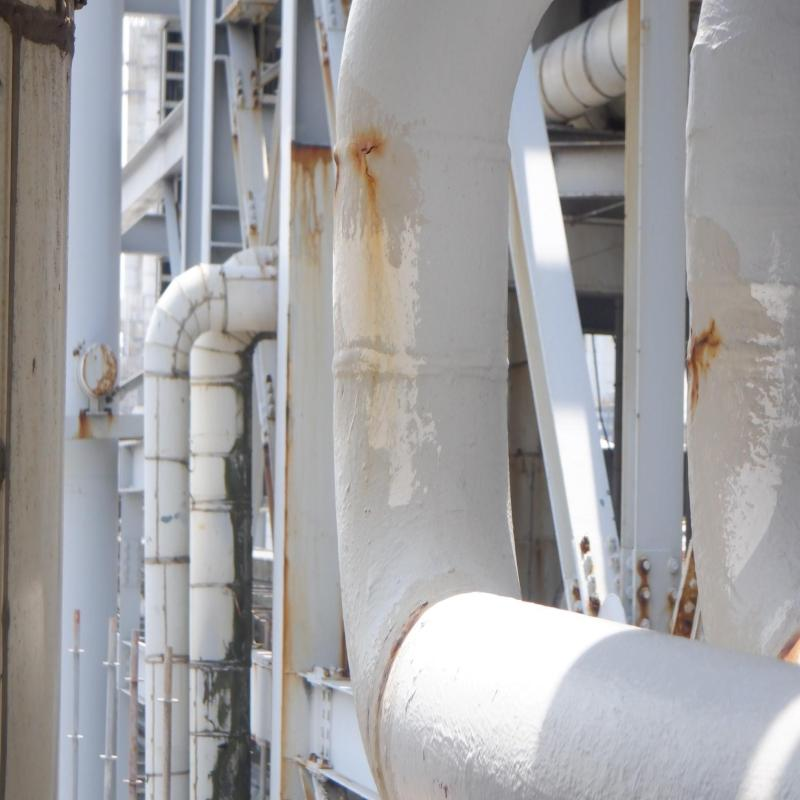corrosion: (354, 125, 384, 180), (688, 322, 720, 367)
